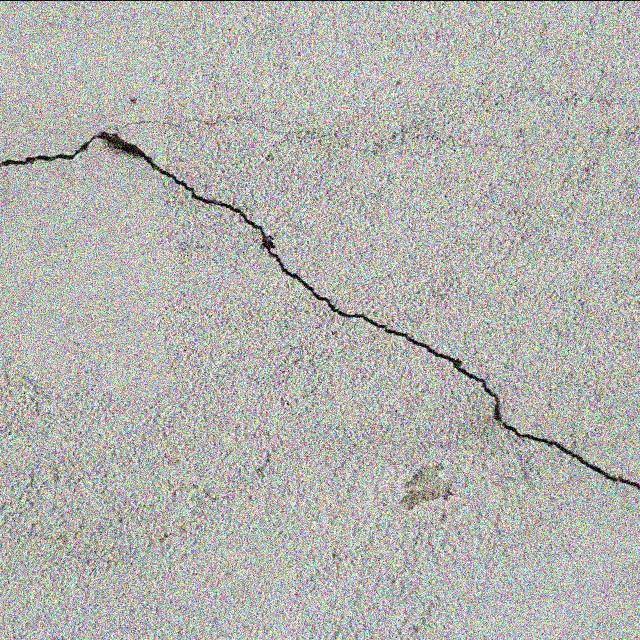SurfaceCrack: (154, 108, 640, 516)
